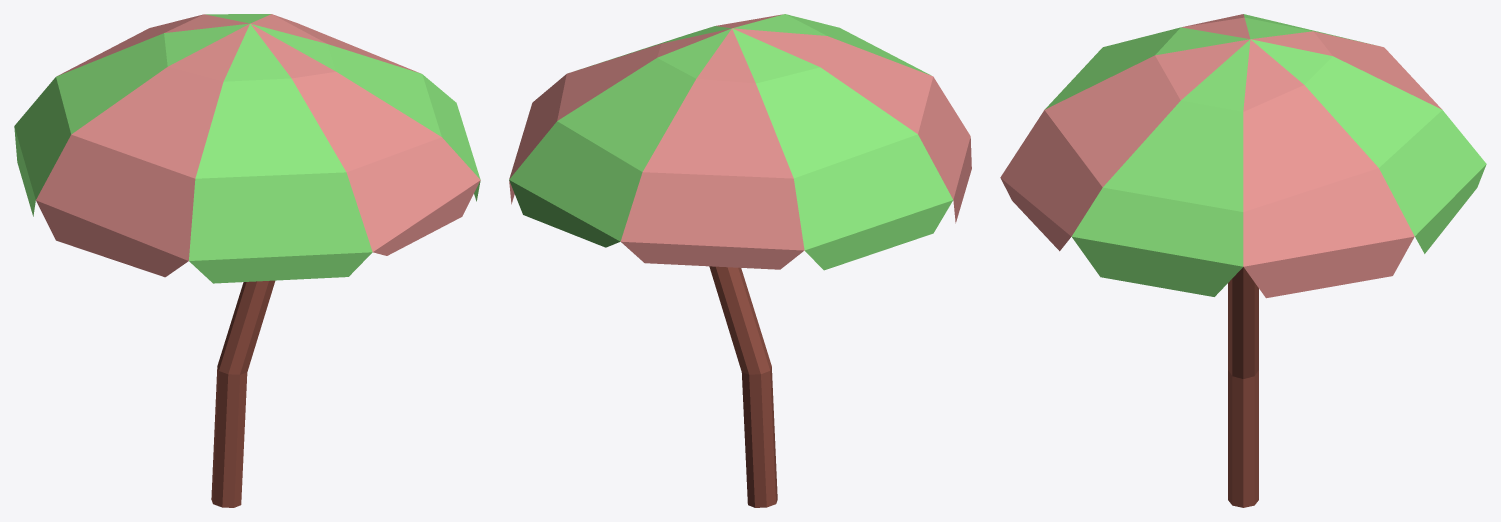
Rendered from Umbrella.fbx.
3 renders of one model, left to right at view 1: azimuth 30°, elevation 25°; view 2: azimuth 150°, elevation 25°; view 3: azimuth 270°, elevation 25°, orthographic.
Visible parts, largest first — view 1: Cylinder.006; view 2: Cylinder.006; view 3: Cylinder.006.
Part boxes in pixels (x1,y1,x2,y2): Cylinder.006: (14, 14, 480, 507); Cylinder.006: (509, 14, 971, 507); Cylinder.006: (1000, 14, 1486, 507).
Bounding box in the file's own units: 997 × 1067 × 989.
